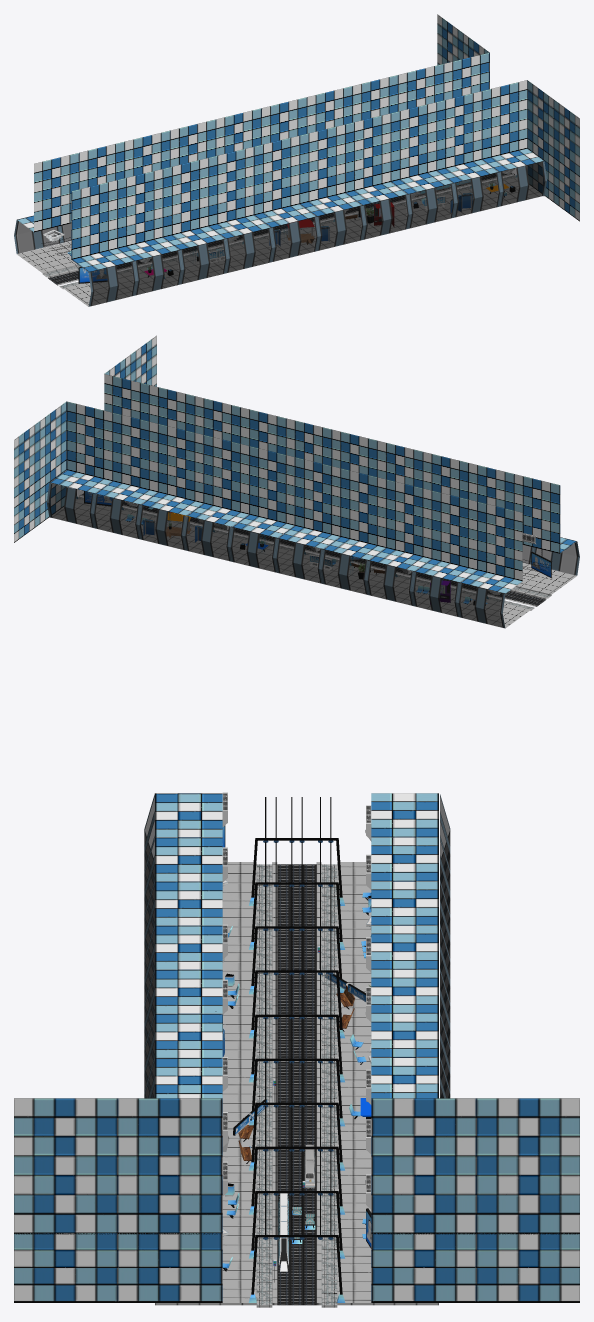
The model's file is subwaysurferstest27.glb.
The picture shows the model from 3 angles, top to bottom: view 1: azimuth 30°, elevation 25°; view 2: azimuth 150°, elevation 25°; view 3: azimuth 270°, elevation 25°; orthographic projection. The views are drawn at different scales.
Visible parts, largest first — view 1: tiledwall.016, tiledwall, tiledwall.005, tiledwall.018, tiledwall.019, tiledwall.024, tiledwall.006, tiledwall.017, tiledwall.003, tiledwall.023, tiledwall.025, tiledwall.001 (+35 smaller); view 2: tiledwall.013, tiledwall.021, tiledwall.025, tiledwall.009, tiledwall.012, tiledwall.022, tiledwall.020, tiledwall.027, tiledwall.007, tiledwall.026, tiledwall.024, tiledwall.008 (+36 smaller); view 3: tiledwall.014, tiledwall.008, tiledwall.002, tiledwall.001, tiledwall.010, tiledwall.004, tiledwall.015, tiledwall.011, tiledwall.017, tiledwall.018, tiledwall.019, tiledwall.020 (+40 smaller).
Part boxes in pixels (box(x1,y1,x2,y2)): tiledwall.016: box(162, 158, 224, 249); tiledwall: box(481, 80, 543, 171); tiledwall.005: box(390, 102, 452, 194); tiledwall.018: box(253, 136, 316, 227); tiledwall.019: box(208, 147, 270, 238); tiledwall.024: box(71, 180, 133, 272); tiledwall.006: box(345, 113, 407, 205); tiledwall.017: box(299, 124, 361, 216); tiledwall.003: box(436, 91, 498, 183); tiledwall.023: box(117, 169, 179, 260); tiledwall.025: box(17, 152, 79, 232); tiledwall.001: box(527, 80, 553, 167); tiledwall.013: box(50, 401, 112, 493); tiledwall.021: box(278, 457, 340, 548); tiledwall.025: box(460, 501, 522, 593); tiledwall.009: box(141, 423, 203, 515); tiledwall.012: box(95, 412, 157, 504); tiledwall.022: box(232, 446, 294, 537); tiledwall.020: box(323, 468, 385, 560); tiledwall.027: box(369, 479, 431, 571); tiledwall.007: box(187, 435, 248, 526); tiledwall.026: box(415, 490, 476, 582); tiledwall.024: box(514, 474, 576, 553); tiledwall.008: box(14, 421, 40, 508); tiledwall.014: box(371, 1098, 475, 1234); tiledwall.008: box(475, 1098, 579, 1234); tiledwall.002: box(14, 1098, 118, 1234); tiledwall.001: box(118, 1098, 222, 1234); tiledwall.010: box(14, 1233, 118, 1302); tiledwall.004: box(118, 1233, 222, 1302); tiledwall.015: box(371, 1233, 475, 1302); tiledwall.011: box(475, 1233, 579, 1302); tiledwall.017: box(155, 1013, 222, 1057); tiledwall.018: box(155, 969, 222, 1013); tiledwall.019: box(155, 925, 222, 969); tiledwall.020: box(371, 925, 438, 969).
Size of the model in its own units: 403 by 88.5 by 217.
4 materials, 4 textured.
